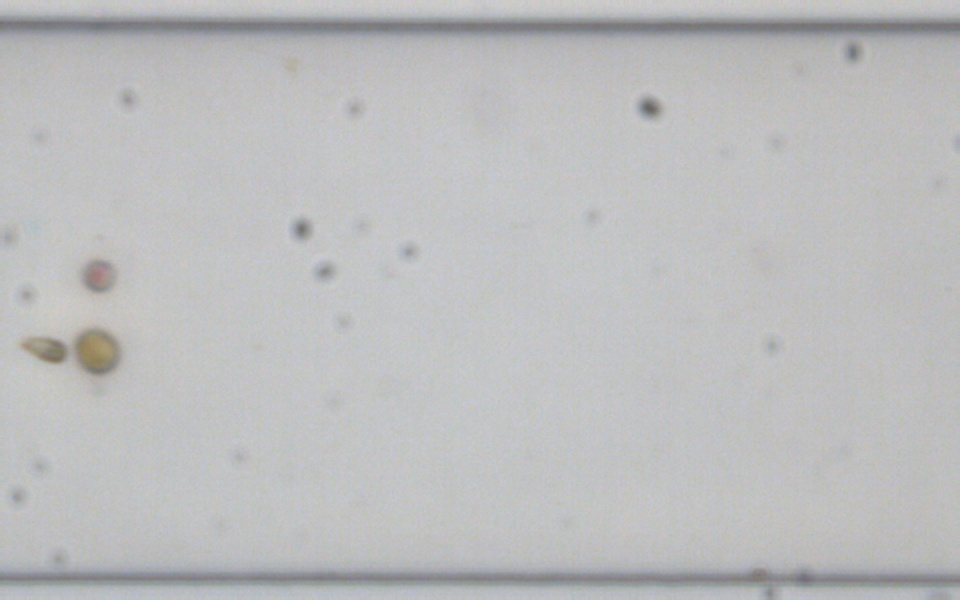Dunaliella salina: (16, 331, 68, 365)
Effrenium: (71, 325, 121, 375)
Porphyridium: (79, 257, 115, 292)
